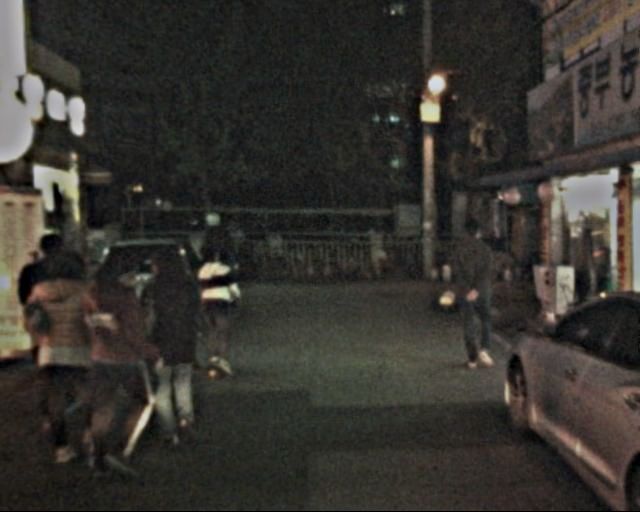person: (80, 241, 169, 481), (24, 237, 103, 455), (135, 238, 216, 446), (451, 212, 508, 373), (197, 238, 246, 380)
